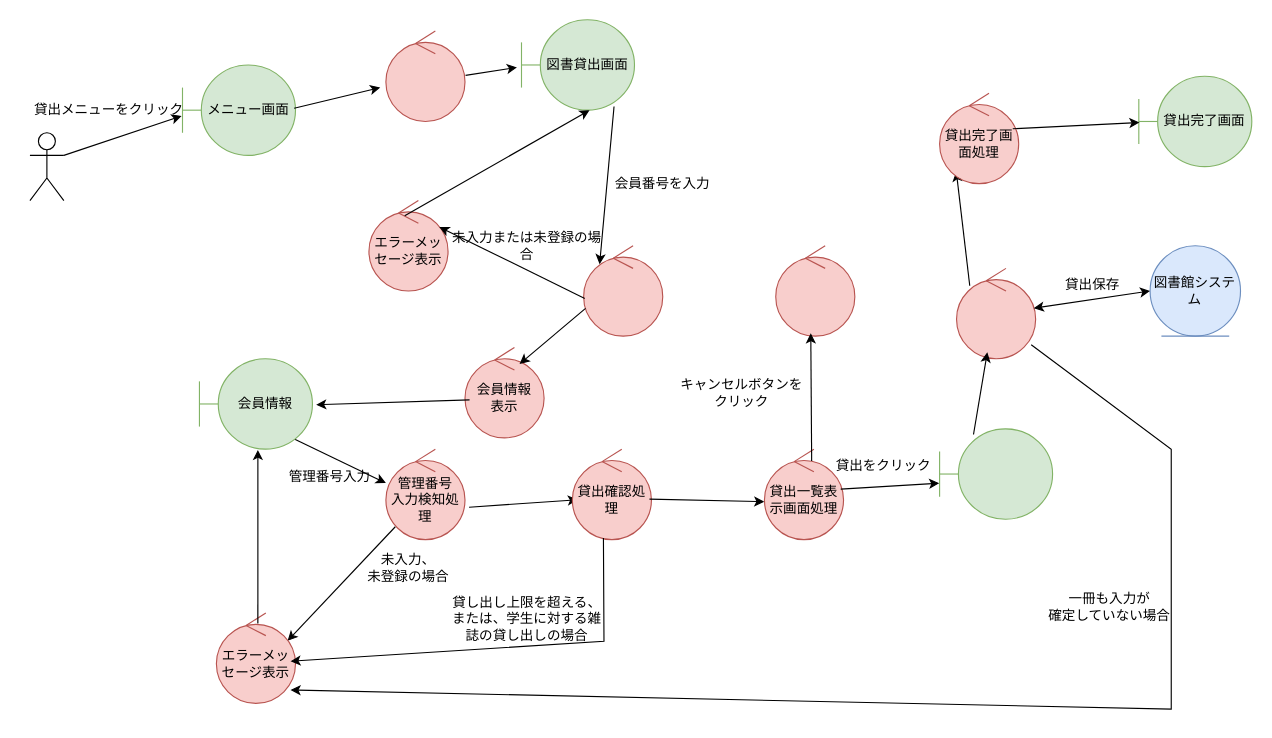
Some shapes in this 1272 by 738 pixel diagram are drawn without their labels. Here are the shapes that lost their labels. From the top down, the centre of each, then its label:
At pixel 425 75: "貸出画面表示".
At pixel 46 166: "事務職員".
At pixel 623 290: "会員番号入力検知処理".
At pixel 815 290: "図書削除".
At pixel 995 313: "貸出処理".
At pixel 995 473: "貸出一覧".
